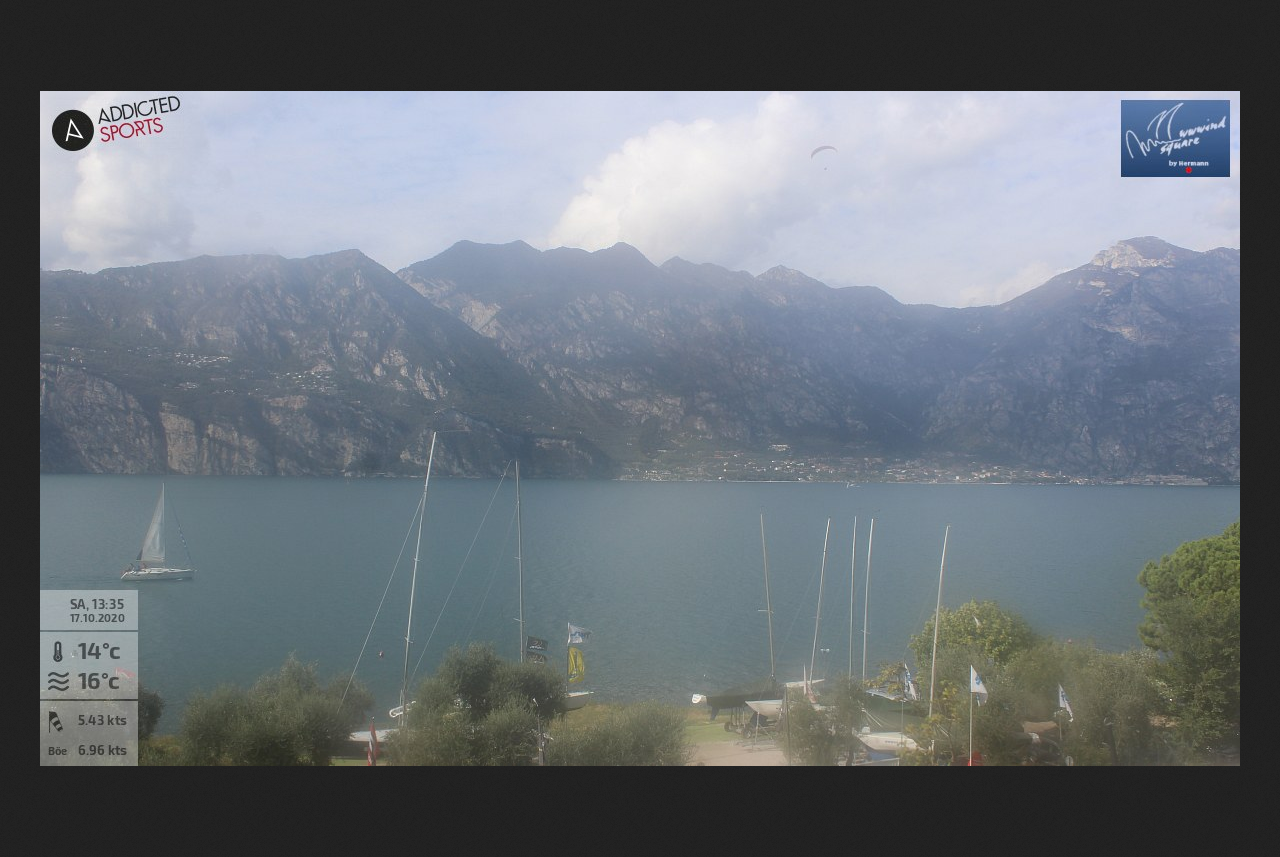maybe: (1057, 684, 1077, 732), (971, 666, 991, 707)
yes: (567, 621, 594, 648), (527, 635, 548, 653)
